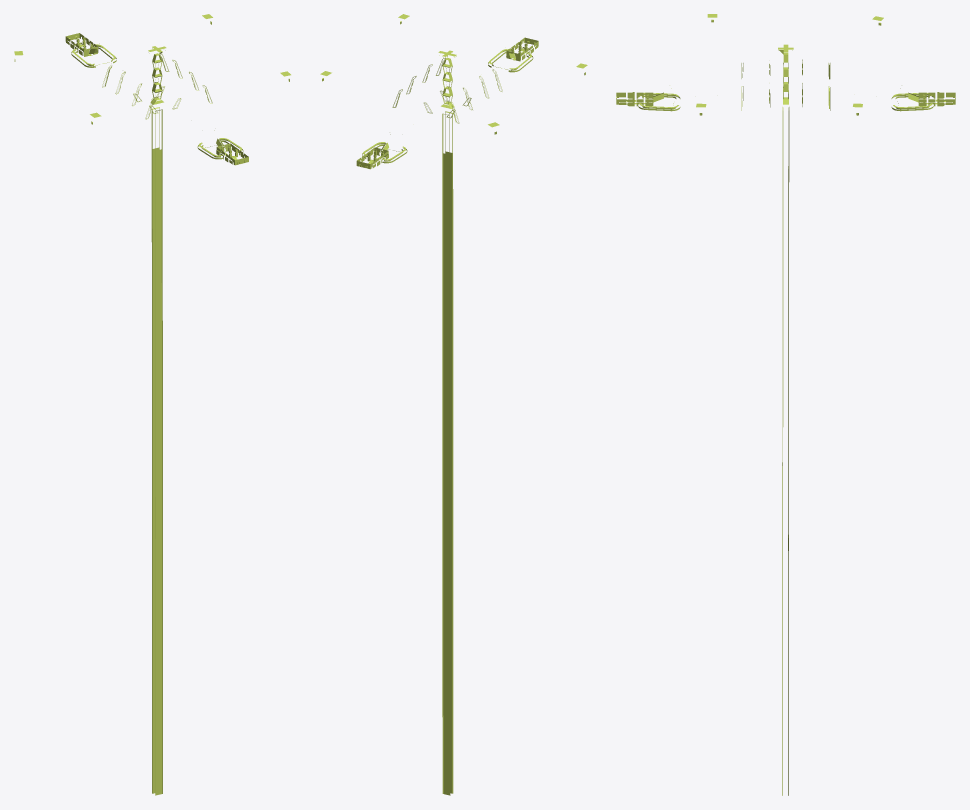
Rendered from cluster_10.fbx.
The picture shows the model from 3 angles, left to right: view 1: azimuth 30°, elevation 25°; view 2: azimuth 150°, elevation 25°; view 3: azimuth 270°, elevation 25°; orthographic projection.
Visible parts, largest first — view 1: cluster_10; view 2: cluster_10; view 3: cluster_10.
Boxes of the visible parts, x1=… form: cluster_10: x1=14, y1=14, x2=290, y2=795; cluster_10: x1=320, y1=14, x2=587, y2=795; cluster_10: x1=616, y1=14, x2=955, y2=795.
Size of the model in its own units: 1057409 by 3915763 by 1613939.
